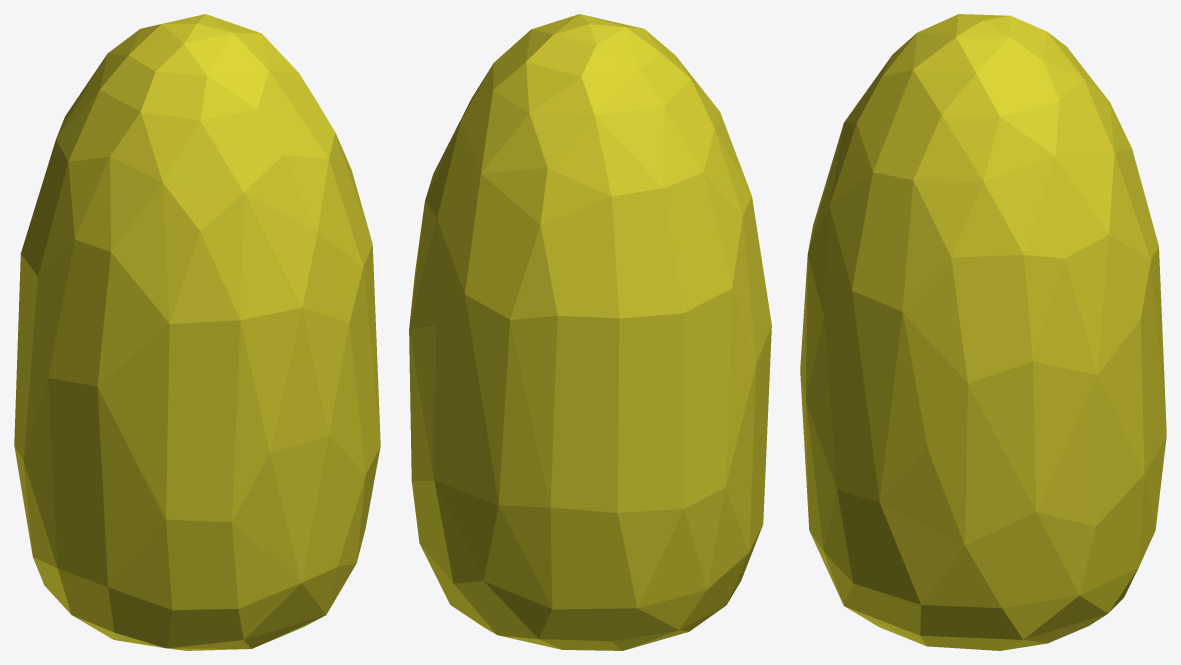
Rendered from Plant_3.fbx.
3 views of the same model, side by side, from view 1: azimuth 30°, elevation 25°; view 2: azimuth 150°, elevation 25°; view 3: azimuth 270°, elevation 25° (orthographic).
Parts seen in each view (by area): view 1: Plant_3; view 2: Plant_3; view 3: Plant_3.
Part boxes in pixels (x1,y1,x2,y2): Plant_3: [14, 14, 380, 650]; Plant_3: [409, 14, 771, 650]; Plant_3: [800, 14, 1166, 650].
Size of the model in its own units: 40.68 by 74.01 by 40.88.
